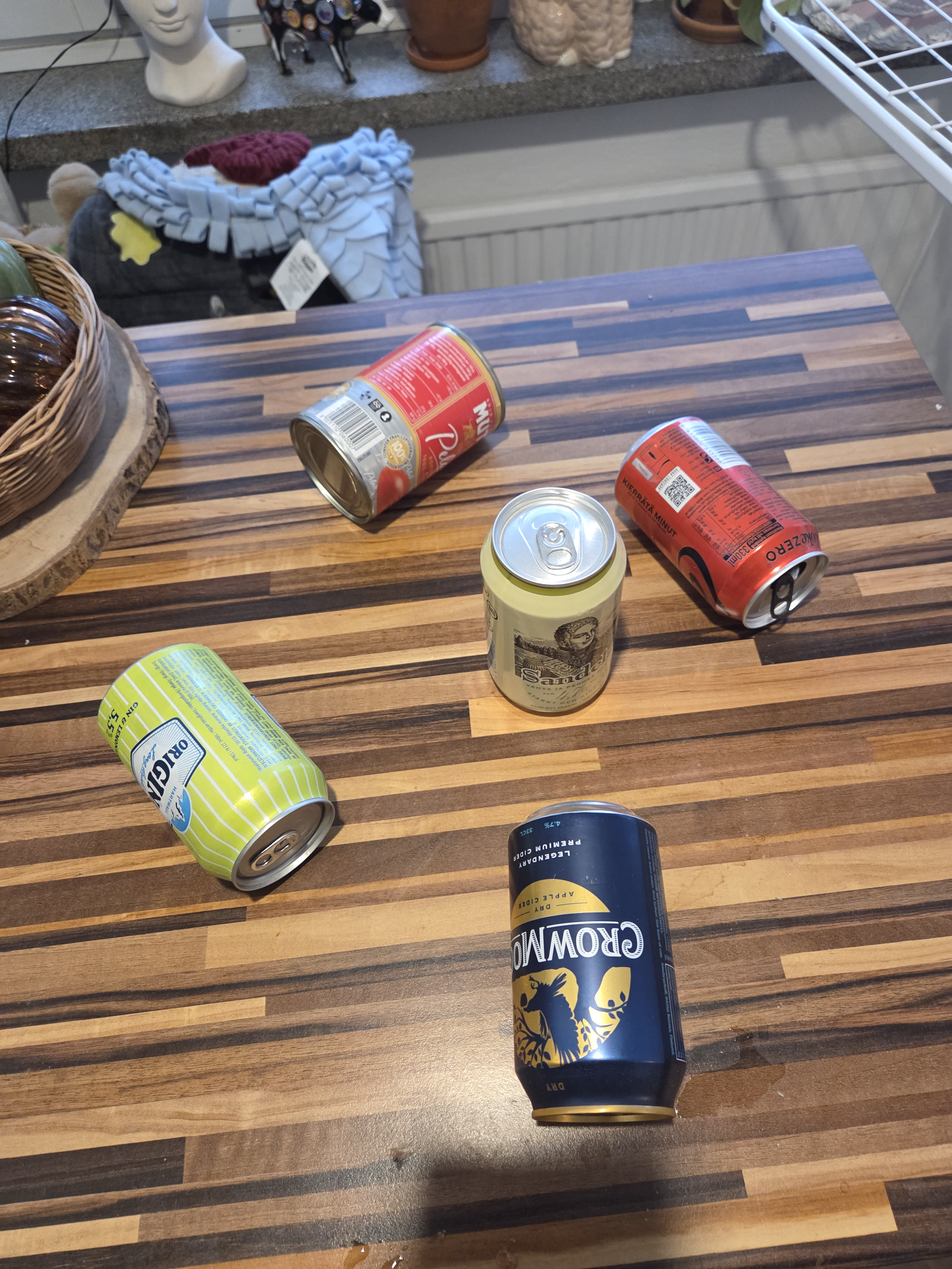Konservburk: (288, 320, 507, 523)
Pantburk: (95, 642, 336, 892), (507, 800, 687, 1124), (614, 416, 829, 630), (480, 486, 628, 715), (689, 976, 704, 978)
